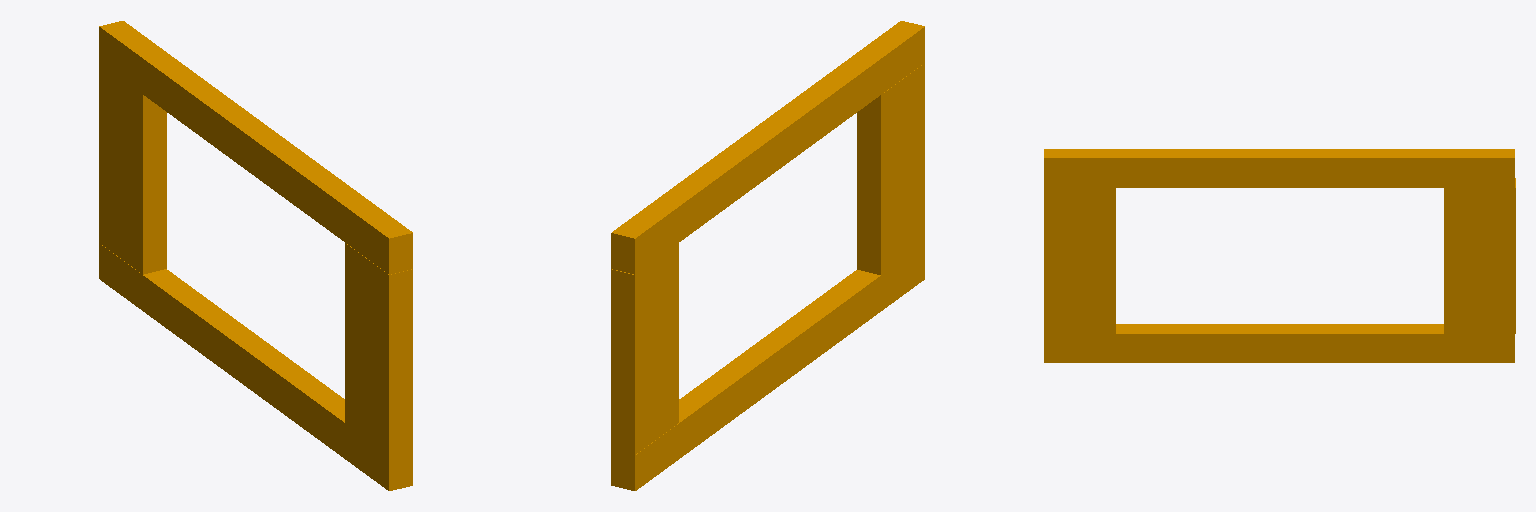
The robot description file, URDF, robot "gate":
<?xml version="1.0" ?>

<robot name="gate">

  <link name="base_link">

    <inertial>
      <origin rpy="0 0 0" xyz="0 0 0"/>
      <mass value="0."/>
      <inertia ixx="0" ixy="0.0" ixz="0.0" iyy="0" iyz="0.0" izz="0"/>
    </inertial>

    <visual>
      <origin rpy="0 0 0" xyz="0 0 0"/>
      <geometry>
        <mesh filename="./assets/gate.obj" scale=" .006 .0083333 .006"/>
      </geometry>
      <material name="grey">
        <color rgba="1.0. 1.0. 0.5. 1"/>
      </material>
    </visual>

    <collision>
      <origin rpy="0 0 0" xyz="0 0 0.111429"/>
      <geometry>
        <box size="0.012 0.25 0.017142"/>
      </geometry>
    </collision>

    <collision>
      <origin rpy="0 0 0" xyz="0 0 0.008571"/>
      <geometry>
        <box size="0.012 0.25 0.017142"/>
      </geometry>
    </collision>

    <collision>
      <origin rpy="0 0 0" xyz="0 -0.105979 0.06"/>
      <geometry>
        <box size="0.012 0.038042 0.085716"/>
      </geometry>
    </collision>

    <collision>
      <origin rpy="0 0 0" xyz="0 0.105979 0.06"/>
      <geometry>
        <box size="0.012 0.038042 0.085716"/>
      </geometry>
    </collision>

  </link>

</robot>

--- Render facts (derived) ---
The picture shows the robot from 3 angles, left to right: view 1: azimuth 30°, elevation 25°; view 2: azimuth 150°, elevation 25°; view 3: azimuth 270°, elevation 25°; orthographic projection.
Model gate with 1 links and 0 joints (none), rooted at base_link, posed every joint at zero.
Links seen in each view (by area): view 1: base_link; view 2: base_link; view 3: base_link.
Link boxes in pixels (x1,y1,x2,y2): base_link: (99, 21, 412, 490); base_link: (611, 21, 924, 490); base_link: (1044, 149, 1515, 362).
Size in the robot's own frame: 0.012 by 0.25 by 0.12 metres.
1 mesh visuals loaded from 1 distinct referenced files (1 OBJ).